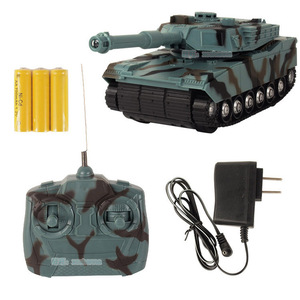Battle Tank: (86, 1, 300, 139)
